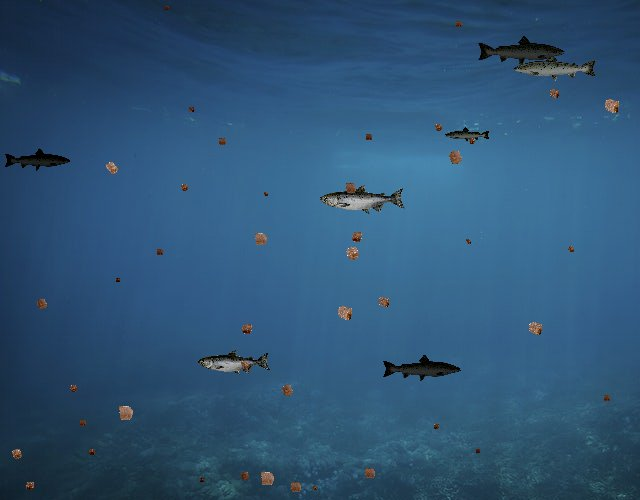Fish: (477, 35, 567, 67), (512, 52, 598, 83), (320, 184, 406, 215), (382, 354, 463, 383), (199, 349, 272, 376), (3, 148, 71, 172), (444, 127, 491, 144)
Pellet: (110, 397, 140, 428), (247, 225, 274, 252), (5, 443, 28, 465), (235, 318, 258, 340), (362, 130, 376, 144), (185, 103, 198, 116)
